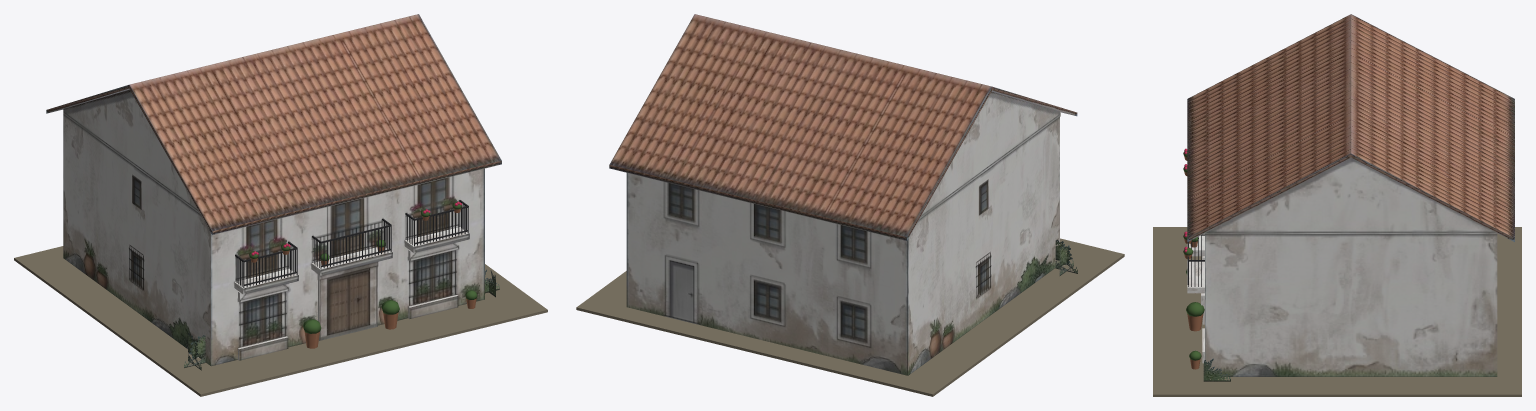
Rendered from casa_dos_plantas.glb.
3 views of the same model, side by side, from view 1: azimuth 30°, elevation 25°; view 2: azimuth 150°, elevation 25°; view 3: azimuth 270°, elevation 25° (orthographic). The views are drawn at different scales.
Parts seen in each view (by area): view 1: CD_Casa, CD_Suelo, CD_Barandillas, CD_MacetaBalcon_-42_Mata, CD_PlantasFoto, CD_MacetaBalcon_-42_Tiesto; view 2: CD_Casa, CD_Suelo, CD_PlantasFoto; view 3: CD_Casa, CD_Suelo, CD_MacetaBalcon_-42_Mata, CD_MacetaBalcon_-42_Tiesto, CD_PlantasFoto, CD_Barandillas.
Part boxes in pixels (bbox=[...]): CD_Casa: bbox=[46, 14, 501, 366]; CD_Suelo: bbox=[14, 246, 547, 396]; CD_Barandillas: bbox=[235, 200, 468, 287]; CD_MacetaBalcon_-42_Mata: bbox=[249, 201, 477, 333]; CD_PlantasFoto: bbox=[184, 269, 499, 370]; CD_MacetaBalcon_-42_Tiesto: bbox=[250, 208, 476, 348]; CD_Casa: bbox=[609, 14, 1077, 375]; CD_Suelo: bbox=[576, 238, 1124, 396]; CD_PlantasFoto: bbox=[1055, 240, 1077, 275]; CD_Casa: bbox=[1187, 14, 1514, 376]; CD_Suelo: bbox=[1153, 227, 1521, 396]; CD_MacetaBalcon_-42_Mata: bbox=[1183, 151, 1204, 360]; CD_MacetaBalcon_-42_Tiesto: bbox=[1184, 156, 1203, 369]; CD_PlantasFoto: bbox=[1203, 358, 1230, 381]; CD_Barandillas: bbox=[1187, 234, 1204, 286].
Size of the model in its own units: 14.5 by 9.26 by 13.5.
Materials: 7 (2 with a texture image).
